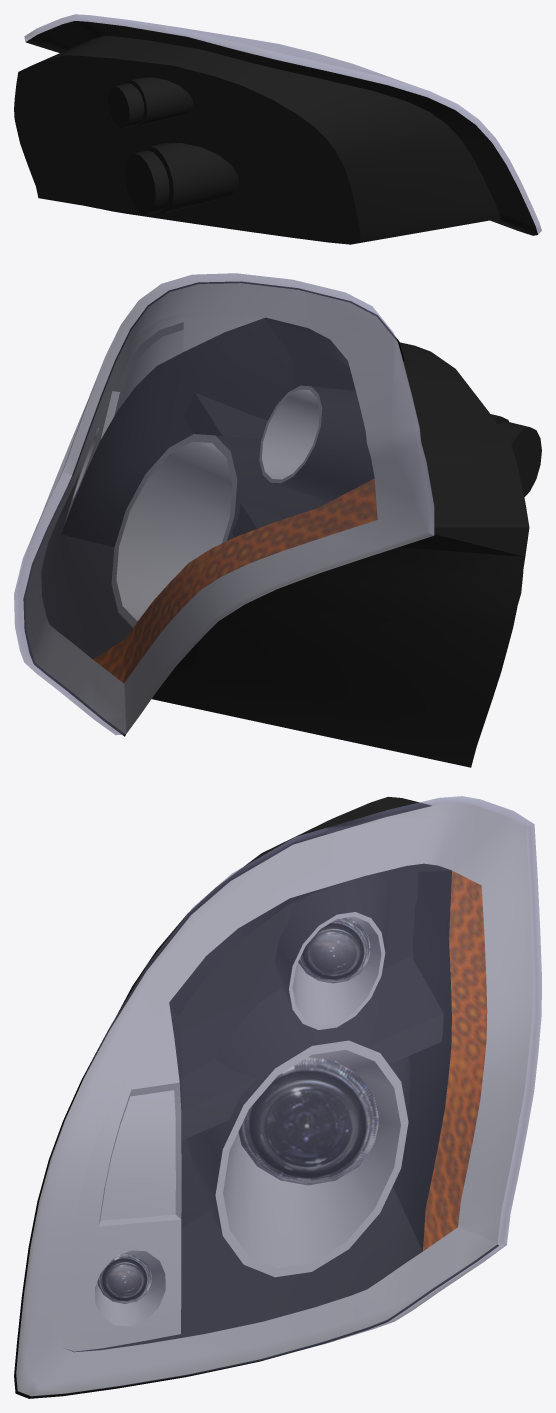
3 views of the same model, one above another, from view 1: azimuth 30°, elevation 25°; view 2: azimuth 150°, elevation 25°; view 3: azimuth 270°, elevation 25° (orthographic). The views are drawn at different scales.
Parts seen in each view (by area): view 1: Z166_061B_L_Z166_061B_L_7_D, Z166_061B_L_Z166_061B_L_5_DTaSI; view 2: Z166_061B_L_Z166_061B_L_5_DTaSI, Z166_061B_L_Z166_061B_L_7_D, Z166_061B_L_Z166_061B_L_6_DaS, Z166_061B_L_Z166_061B_L_4_N, Z166_061B_L_Z166_061B_L_8_D; view 3: Z166_061B_L_Z166_061B_L_5_DTaSI, Z166_061B_L_Z166_061B_L_6_DaS, Z166_061B_L_Z166_061B_L_7_D, Z166_061B_L_Z166_061B_L_2_N, Z166_061B_L_Z166_061B_L_4_N, Z166_061B_L_Z166_061B_L_3_N, Z166_061B_L_Z166_061B_L_8_D, Z166_061B_L_1_N_Z166_061B_L.
Part boxes in pixels (x1,y1,x2,y2): Z166_061B_L_Z166_061B_L_7_D: (14, 21, 537, 244); Z166_061B_L_Z166_061B_L_5_DTaSI: (24, 14, 541, 234); Z166_061B_L_Z166_061B_L_5_DTaSI: (14, 273, 433, 734); Z166_061B_L_Z166_061B_L_7_D: (41, 317, 541, 767); Z166_061B_L_Z166_061B_L_6_DaS: (25, 283, 434, 734); Z166_061B_L_Z166_061B_L_4_N: (93, 478, 377, 683); Z166_061B_L_Z166_061B_L_8_D: (23, 281, 404, 736); Z166_061B_L_Z166_061B_L_5_DTaSI: (16, 796, 541, 1396); Z166_061B_L_Z166_061B_L_6_DaS: (16, 802, 532, 1396); Z166_061B_L_Z166_061B_L_7_D: (68, 796, 451, 1352); Z166_061B_L_Z166_061B_L_2_N: (238, 1056, 379, 1185); Z166_061B_L_Z166_061B_L_4_N: (423, 871, 487, 1250); Z166_061B_L_Z166_061B_L_3_N: (298, 917, 371, 983); Z166_061B_L_Z166_061B_L_8_D: (14, 833, 498, 1398); Z166_061B_L_1_N_Z166_061B_L: (97, 1254, 151, 1303).
Bounding box in the file's own units: 60.27 × 31.18 × 42.56.
